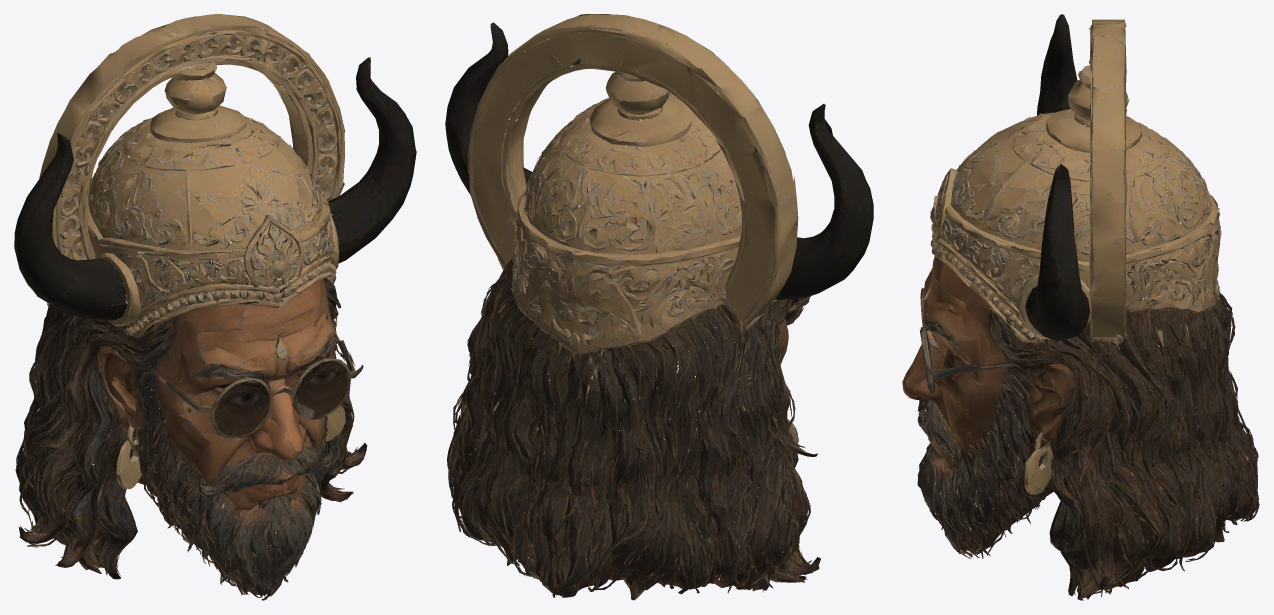
The model's file is head-sage-web.glb.
3 views of the same model, side by side, from view 1: azimuth 30°, elevation 25°; view 2: azimuth 150°, elevation 25°; view 3: azimuth 270°, elevation 25° (orthographic). The views are drawn at different scales.
Visible parts, largest first — view 1: mesh_node; view 2: mesh_node; view 3: mesh_node.
Part boxes in pixels (box(x1,y1,x2,y2)): mesh_node: box(14, 14, 416, 600); mesh_node: box(445, 14, 873, 600); mesh_node: box(902, 14, 1259, 600).
Bounding box in the file's own units: 1.51 × 1.9 × 1.18.
Materials: 1 (1 with a texture image).
